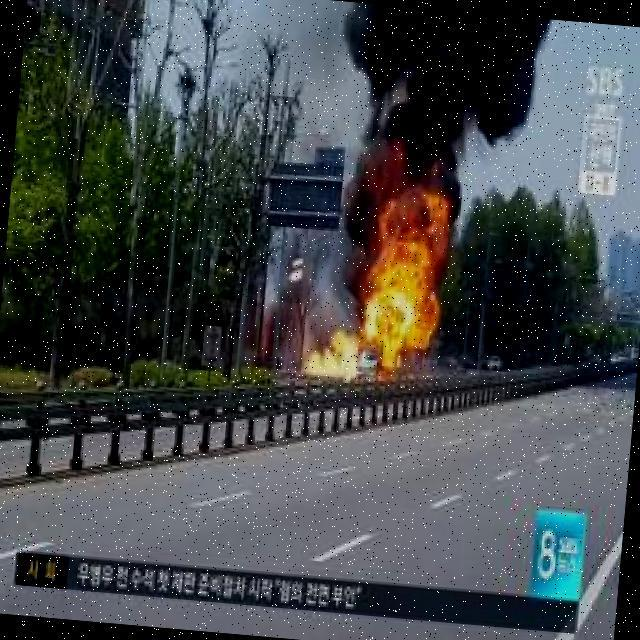Fire: (364, 200, 447, 377), (308, 339, 360, 385)
